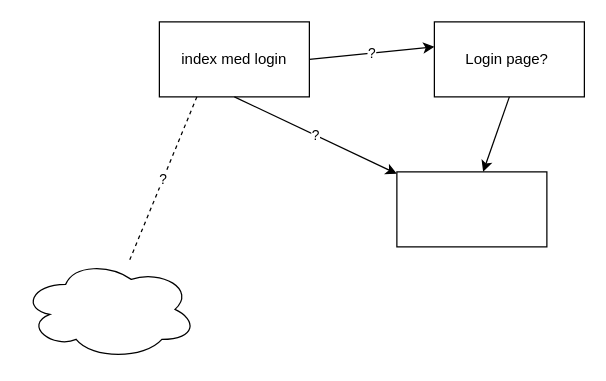
Image size: 606x381. Some labels were removed from this diagram. Each missing label, with the box of its shape:
Create user page?: (21, 258, 197, 359)
Logged in netbank page: (396, 171, 547, 247)
